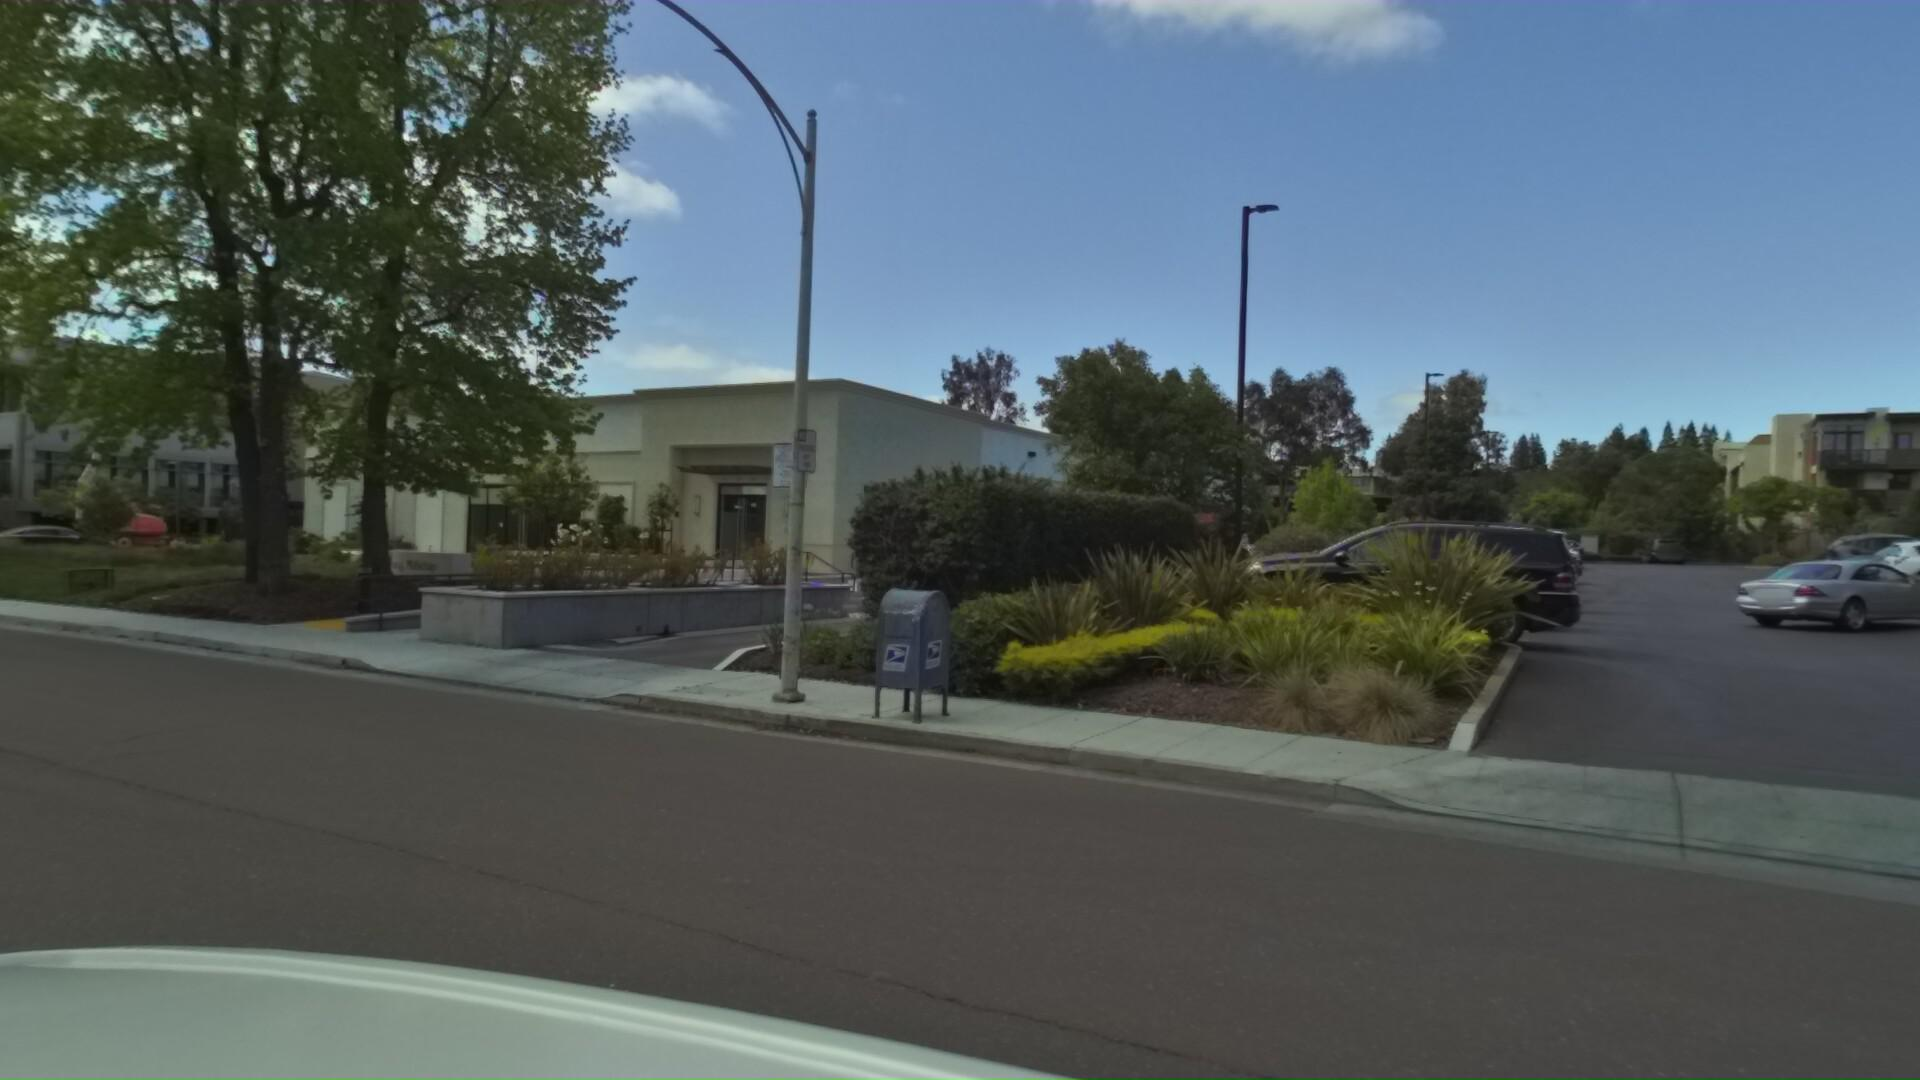other_vehicle: (58, 375, 218, 553)
